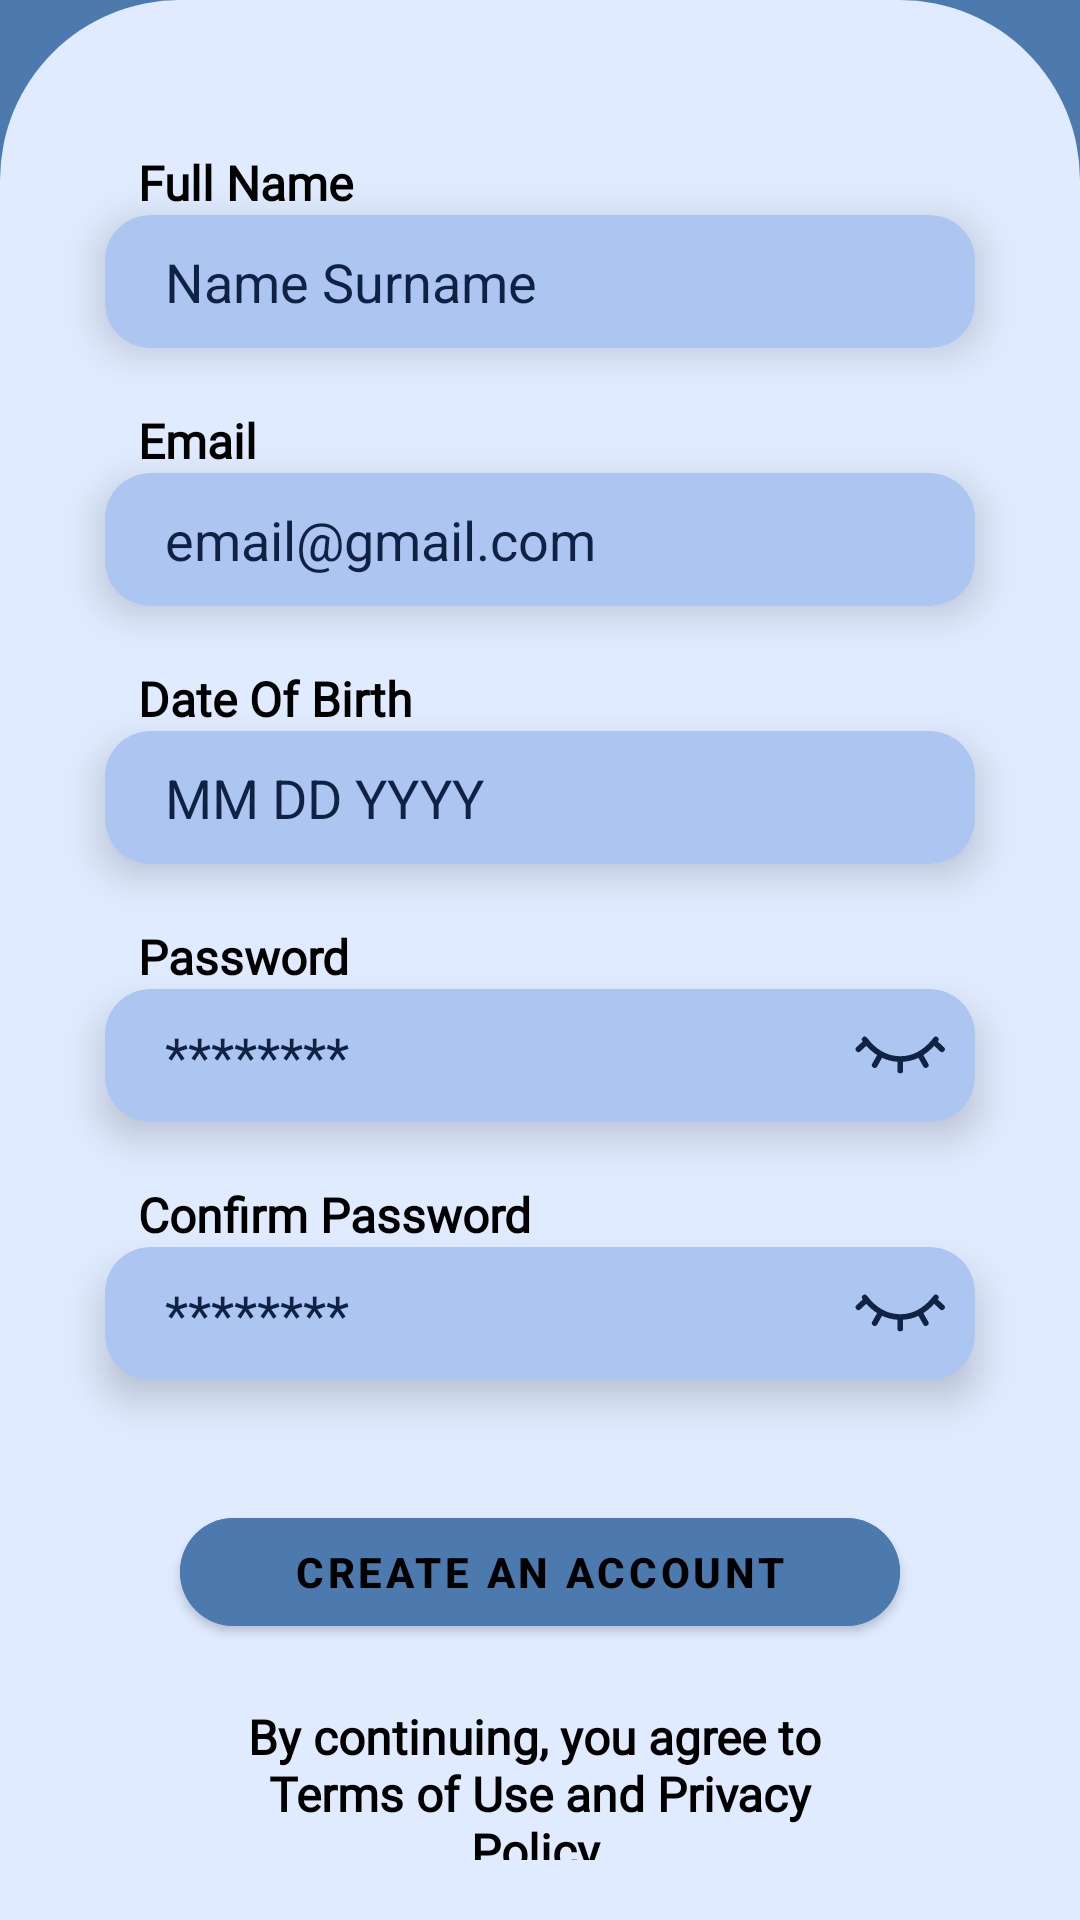

Named icons in this screenshot (1080 × 1920) and their centers, [x,y]:
eye close: [900,1055], [900,1313]
